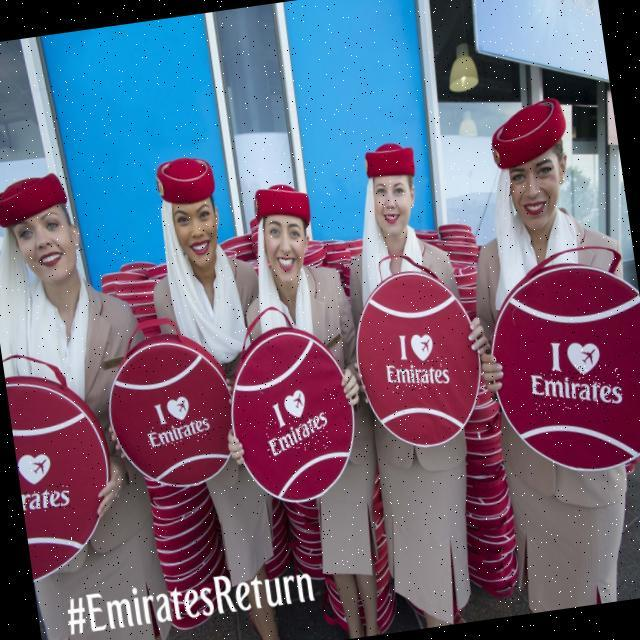Emirates: (530, 361, 624, 416), (264, 411, 332, 457), (385, 356, 451, 394), (146, 418, 213, 451), (21, 485, 71, 514)
